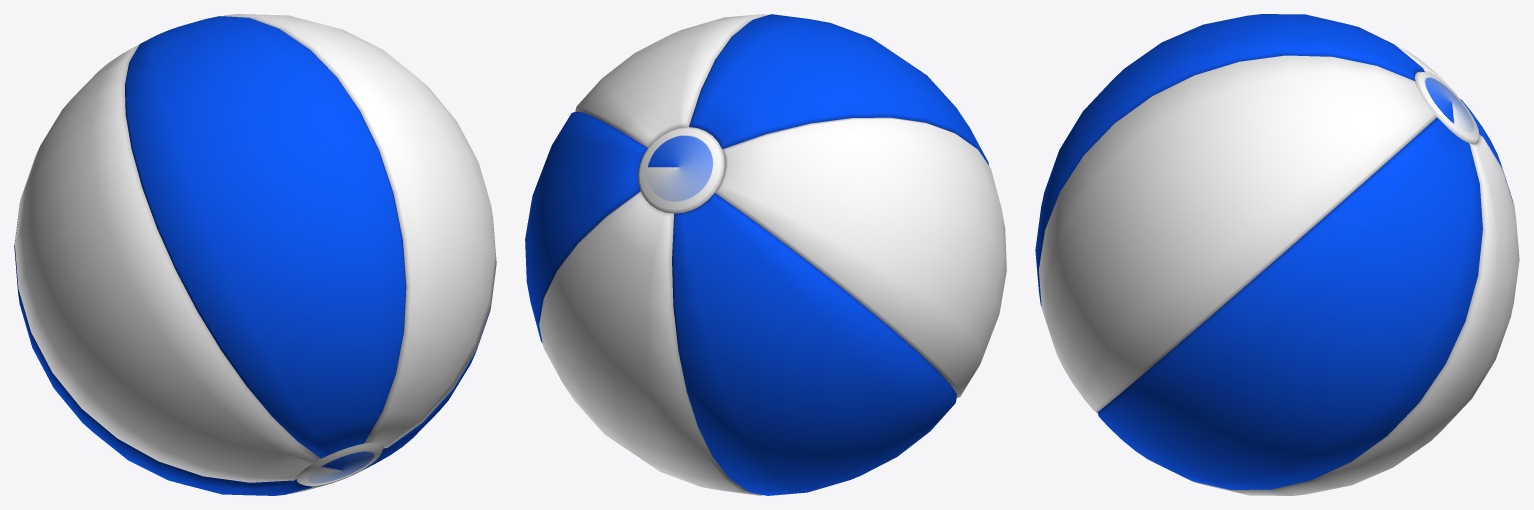
Rendered from ball.glb.
The picture shows the model from 3 angles, left to right: view 1: azimuth 30°, elevation 25°; view 2: azimuth 150°, elevation 25°; view 3: azimuth 270°, elevation 25°; orthographic projection.
Visible parts, largest first — view 1: Sphere_0; view 2: Sphere_0; view 3: Sphere_0.
Part boxes in pixels (x1=…): Sphere_0: x1=14, y1=14, x2=496, y2=495; Sphere_0: x1=525, y1=14, x2=1006, y2=495; Sphere_0: x1=1035, y1=14, x2=1519, y2=495.
Bounding box in the file's own units: 3.56 × 3.58 × 3.58.
1 material, 1 textured.
